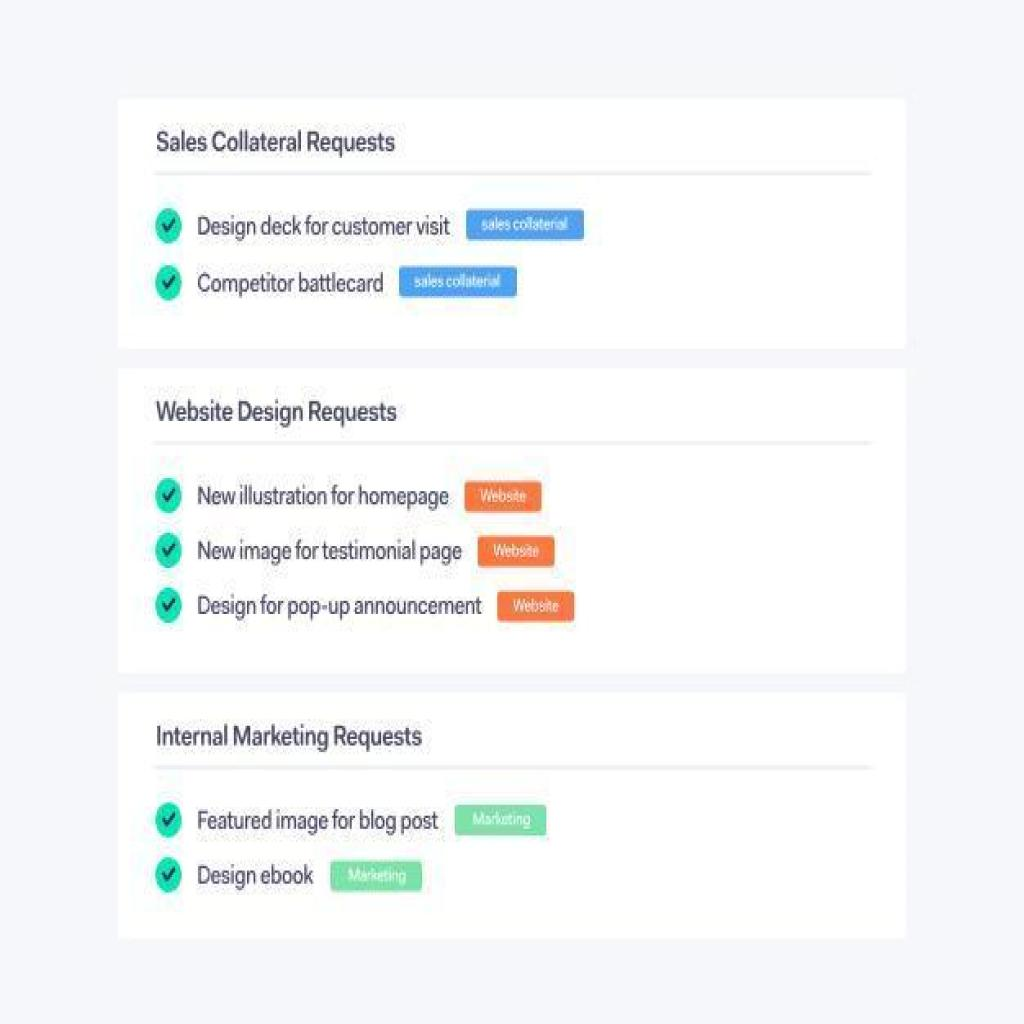button: (466, 208, 584, 242), (399, 265, 517, 296), (328, 860, 424, 892), (455, 805, 546, 835), (496, 590, 574, 623), (466, 480, 542, 513), (478, 535, 554, 568)
checkbox: (152, 583, 183, 627), (152, 800, 185, 838), (152, 855, 183, 895), (154, 263, 183, 303), (156, 529, 184, 570), (152, 476, 183, 513), (156, 208, 182, 246)
label: (196, 588, 488, 620), (195, 535, 463, 568), (190, 482, 453, 513), (198, 208, 455, 239), (194, 805, 442, 833), (194, 268, 384, 296), (198, 860, 316, 890)
